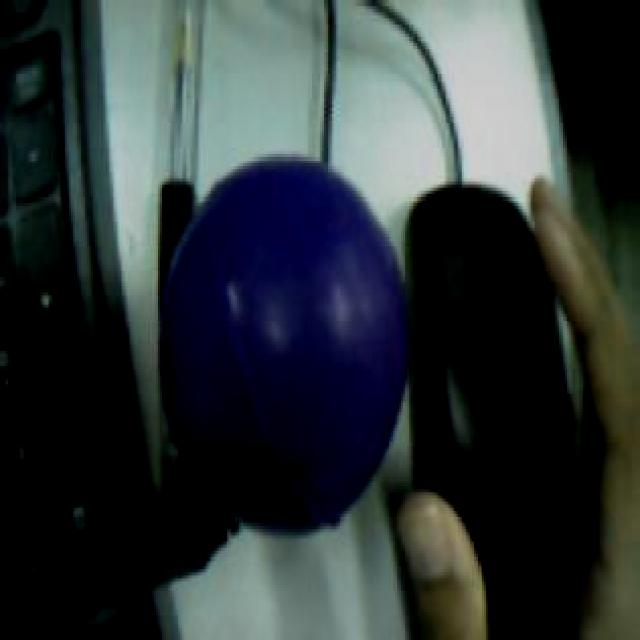BallPurple: (162, 154, 409, 540)
